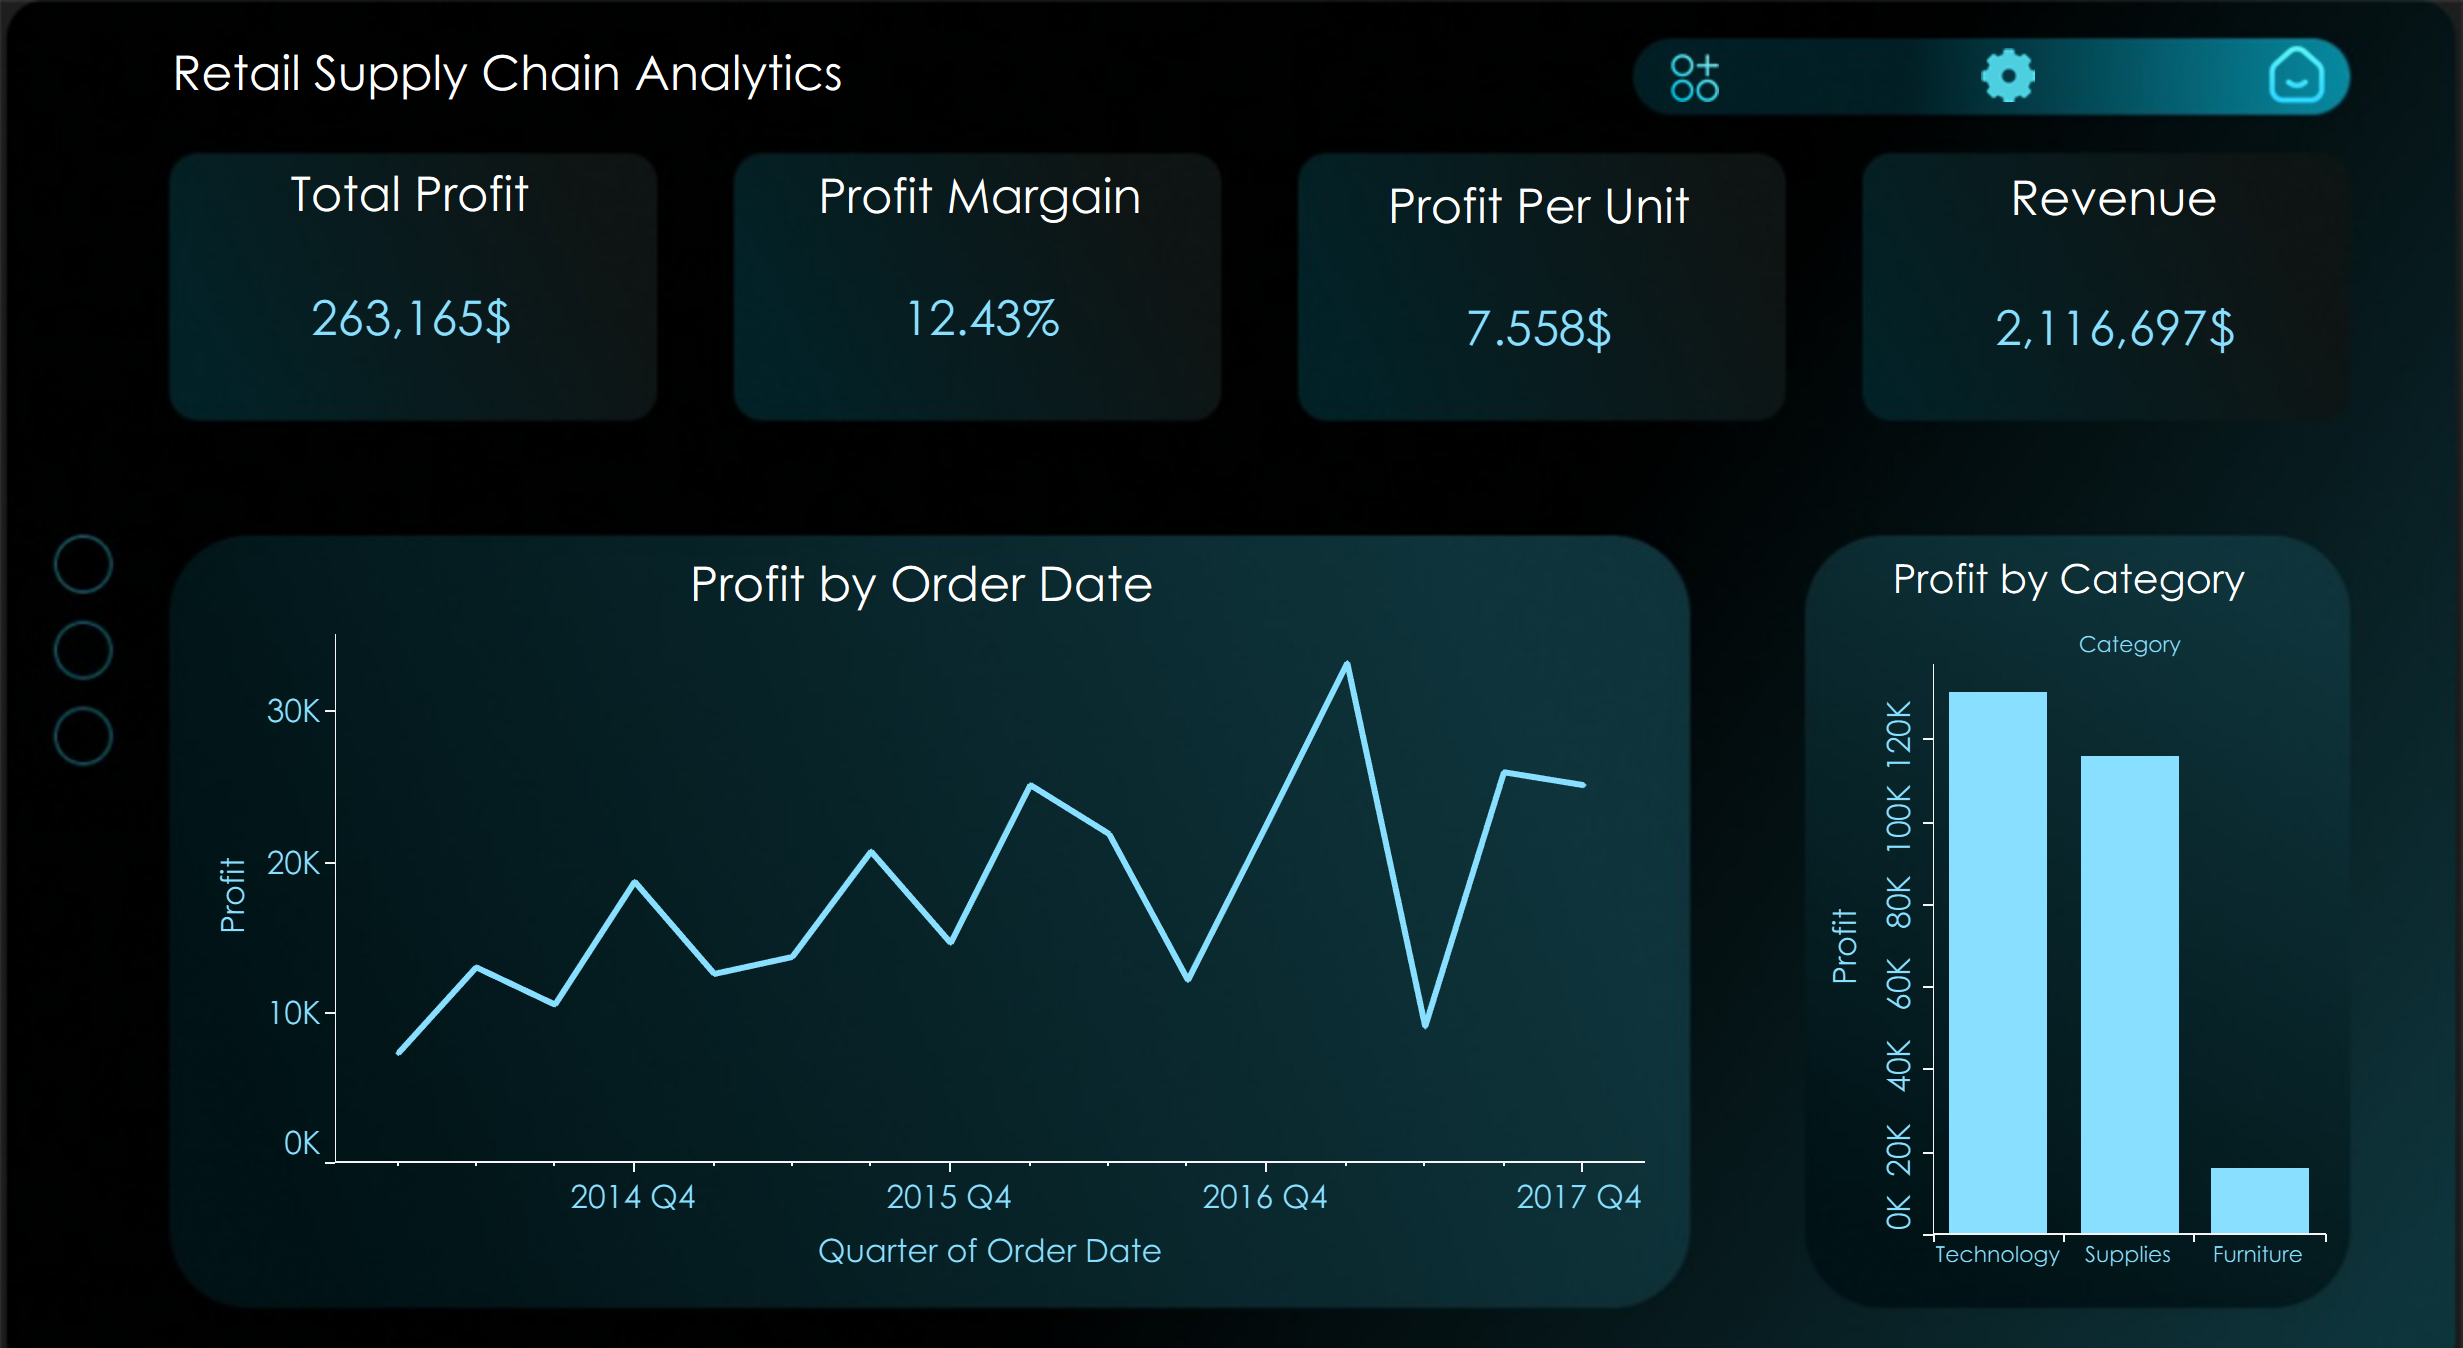

The dashboard page shown, as its layout file describes it:
{"tool":"tableau","page":{"name":"Profit Dashboard","canvas":[1280,720],"ordinal":3},"visuals":[{"type":"image","param":"Image/c62beb59-c3a0-498c-a12f-f4a8f3692667.jpg","box":[8,8,1264,704]},{"type":"image","param":"Image/home_18976962.png","box":[1144,32,33,34]},{"type":"text","box":[96,33,359,30]},{"type":"image","param":"Image/settings_759614.png","box":[1003,36,27,30]},{"type":"image","param":"Image/application_5718124.png","box":[847,38,26,25]},{"type":"worksheet","title":"Total Profit","mark":"Automatic","box":[124,90,187,118]},{"type":"worksheet","title":"Profit Margain","mark":"Automatic","box":[416,91,173,116]},{"type":"worksheet","title":"Revenue","mark":"Automatic","box":[965,92,209,124]},{"type":"worksheet","title":"Profit Per Unit","mark":"Automatic","box":[686,96,192,116]},{"type":"worksheet","title":"Profit by Order Date","mark":"Automatic","rows":["Profit"],"cols":["Order Date"],"box":[112,285,723,369]},{"type":"worksheet","title":"Profit by Category","mark":"Automatic","rows":["Profit"],"cols":["Category"],"box":[918,285,258,364]}]}

Visuals, with their boxes in screenshot pixels (x1, y1, x2, y2), scaled from the page's 1280x720 canvas onto the 2463x1348 screenshot:
image: 15:15:2448:1333
image: 2201:60:2265:124
text: 185:62:876:118
image: 1930:67:1982:124
image: 1630:71:1680:118
"Total Profit" worksheet: 239:168:598:389
"Profit Margain" worksheet: 800:170:1133:388
"Revenue" worksheet: 1857:172:2259:404
"Profit Per Unit" worksheet: 1320:180:1689:397
"Profit by Order Date" worksheet: 216:534:1607:1224
"Profit by Category" worksheet: 1766:534:2263:1215
